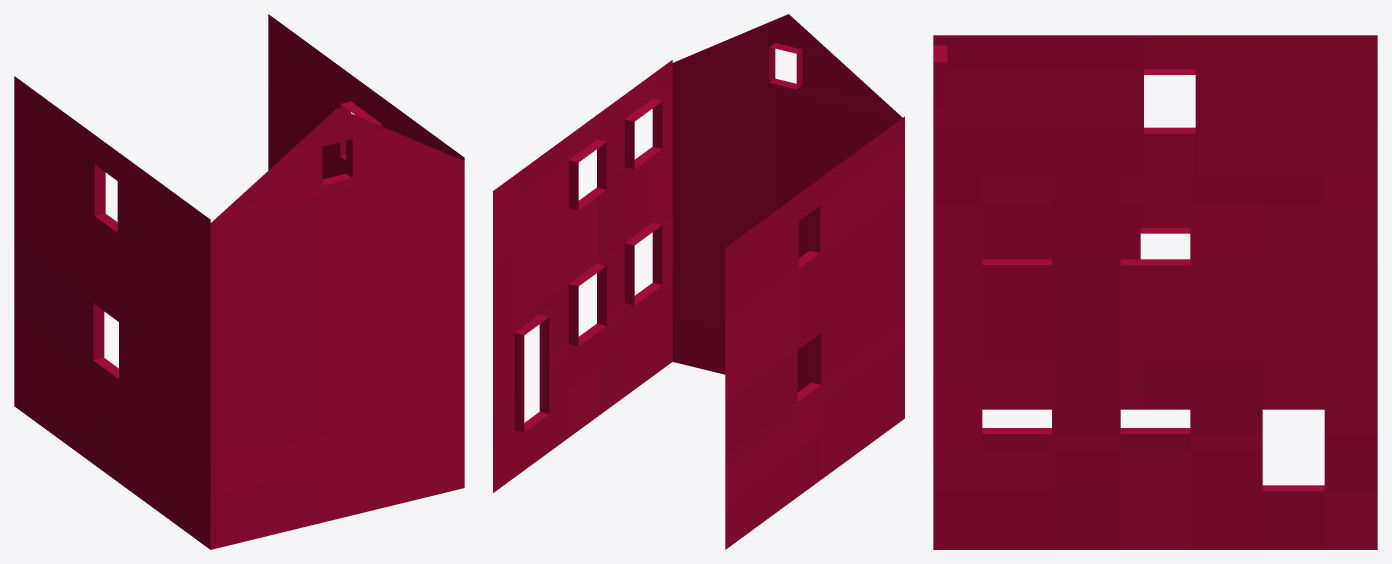
Rendered from SM_Bld_064_Masonry.glb.
3 renders of one model, left to right at view 1: azimuth 30°, elevation 25°; view 2: azimuth 150°, elevation 25°; view 3: azimuth 270°, elevation 25°, orthographic. The views are drawn at different scales.
Parts seen in each view (by area): view 1: SM_Bld_064_Masonry; view 2: SM_Bld_064_Masonry; view 3: SM_Bld_064_Masonry.
Part boxes in pixels (x1,y1,x2,y2): SM_Bld_064_Masonry: (14,14,464,549); SM_Bld_064_Masonry: (493,14,904,549); SM_Bld_064_Masonry: (933,35,1377,549).
Bounding box in the file's own units: 5.13 × 7.93 × 6.86.
